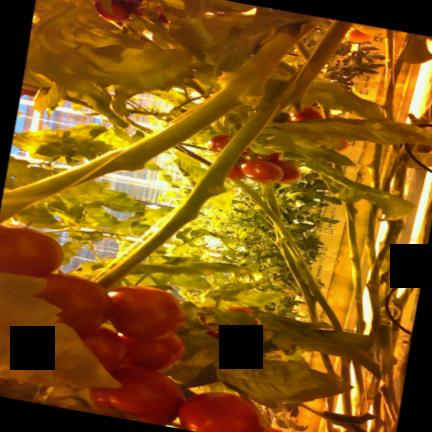MainStem: (96, 19, 352, 289), (0, 26, 314, 222), (230, 178, 342, 330), (275, 229, 315, 320), (345, 202, 364, 332)
tomato: (89, 366, 183, 424), (34, 273, 112, 332), (108, 285, 186, 340), (178, 392, 267, 432), (0, 225, 63, 276), (119, 333, 185, 370), (79, 326, 125, 371), (206, 324, 255, 350), (241, 160, 283, 182), (94, 0, 130, 21), (273, 160, 301, 182), (242, 148, 282, 161), (289, 106, 321, 121), (344, 27, 371, 42), (208, 134, 232, 150), (353, 23, 385, 35), (226, 165, 246, 179), (227, 306, 253, 313), (336, 139, 349, 151)
